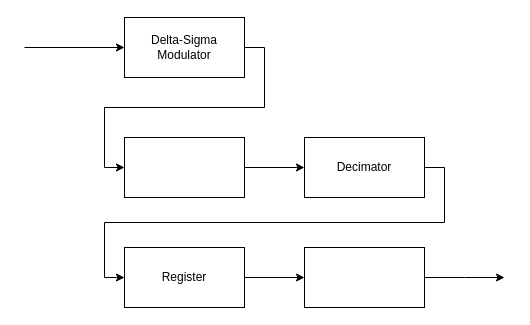
The diagram is 530 pixels wide and 325 high, and some of its shapes have lost their labels. The shapes that lost their labels are listed below. From the top down, each one's box as (x1, y1, x2, y2) in pixels, then its label:
(124, 136, 244, 198): Digital Filter
(304, 246, 424, 308): Bus
